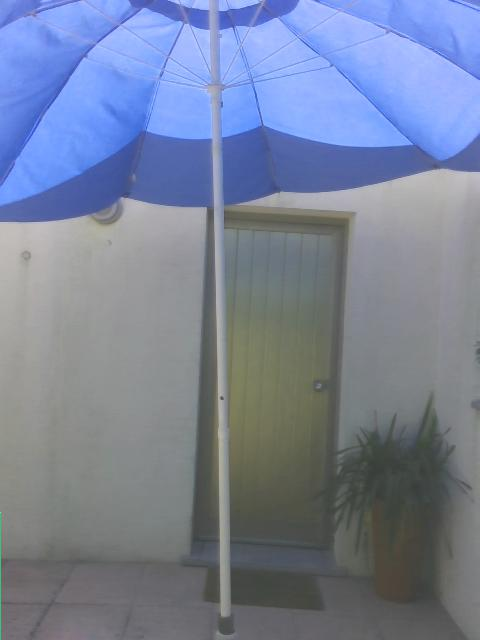closed_door: (193, 207, 354, 550)
